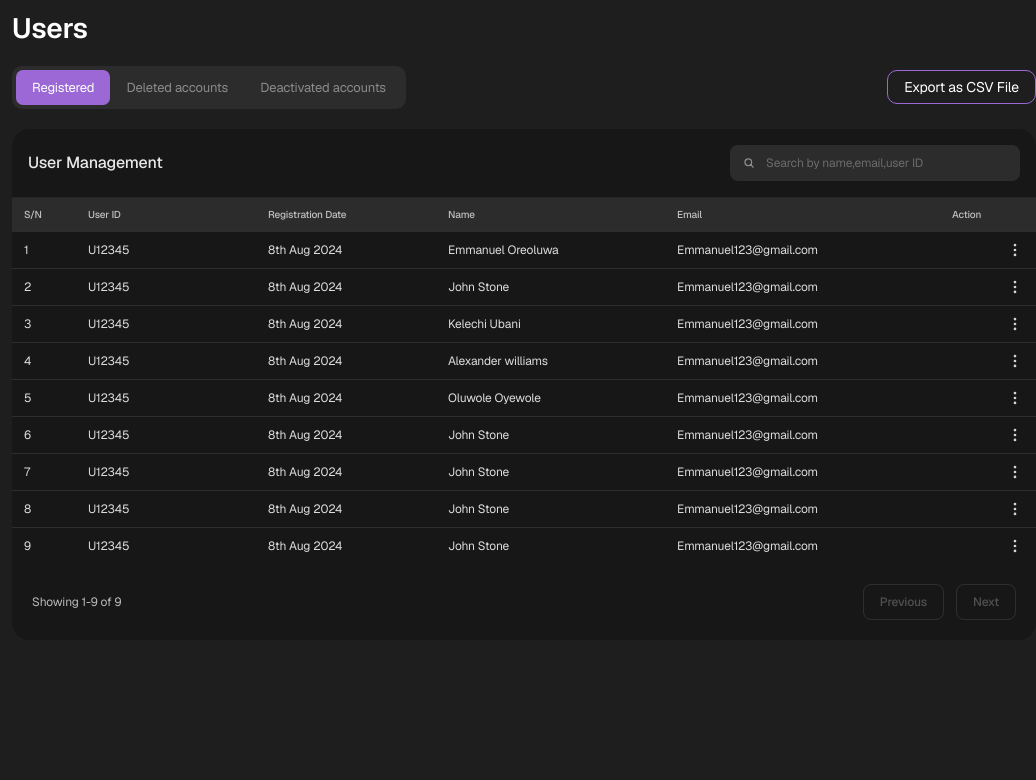
Scenario: UsersPage › switches user tabs on the client
This screenshot has width=1036, height=780.
Click the button "Deleted accounts" at [177, 87], box [110,70,244,105]
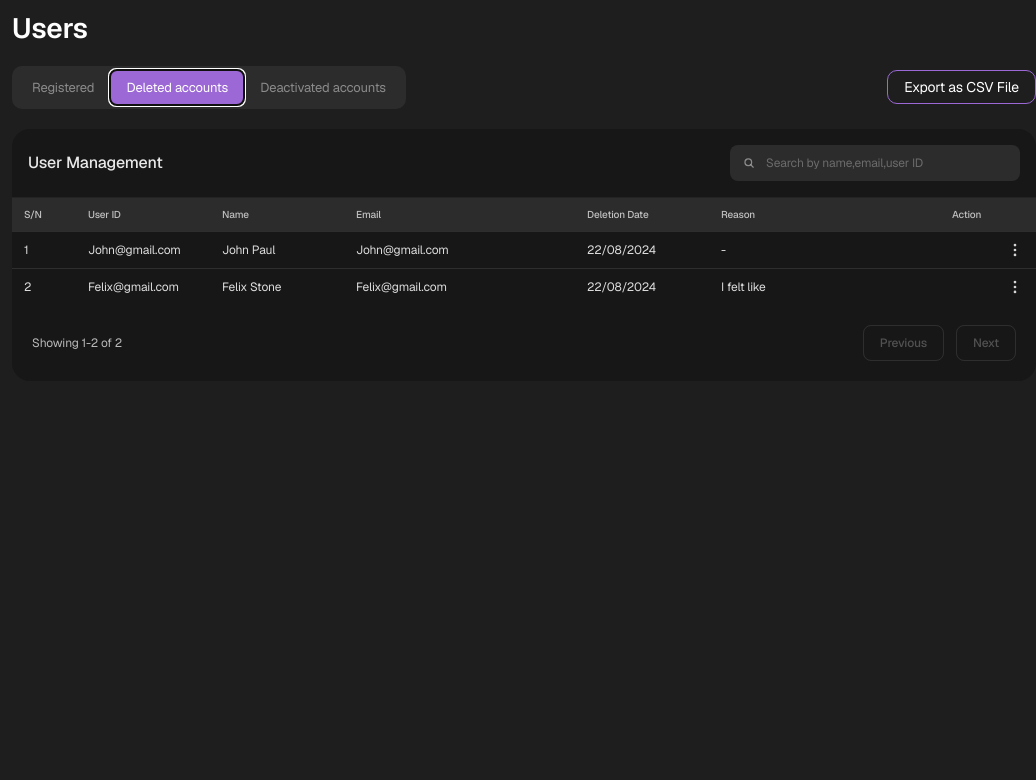
Check: the text "Felix Stone" is shown, box [222,279,281,295]
